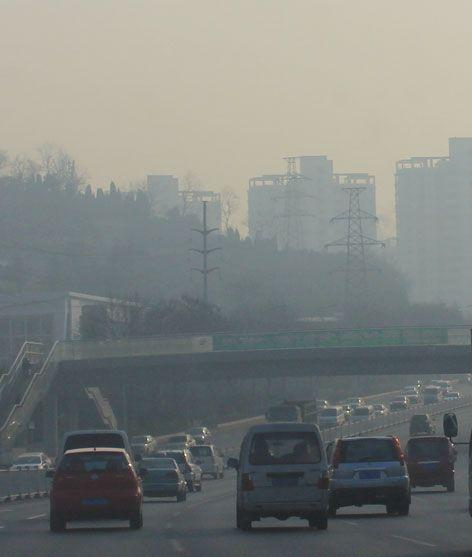bus: (265, 397, 319, 435)
car: (227, 423, 334, 531), (46, 447, 149, 532), (320, 435, 412, 517), (55, 431, 142, 515), (400, 435, 458, 493), (143, 450, 203, 493), (133, 458, 187, 503), (6, 452, 51, 486), (187, 445, 226, 479), (161, 435, 196, 456), (129, 435, 159, 458), (407, 413, 435, 437), (347, 404, 374, 428), (317, 406, 345, 429), (187, 427, 212, 445), (422, 385, 443, 404), (387, 395, 410, 410), (433, 381, 453, 395), (312, 400, 329, 416), (402, 390, 421, 404), (368, 404, 385, 419), (442, 391, 462, 403), (400, 386, 417, 400)
